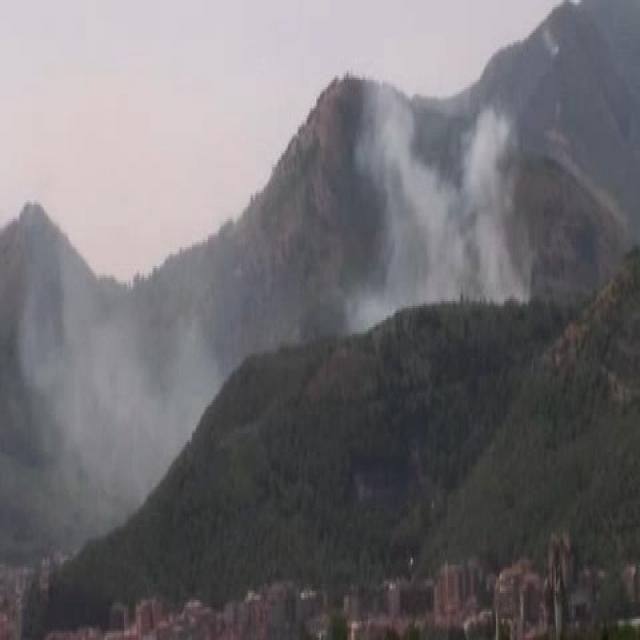smoke: (358, 88, 511, 306), (7, 298, 208, 456)
